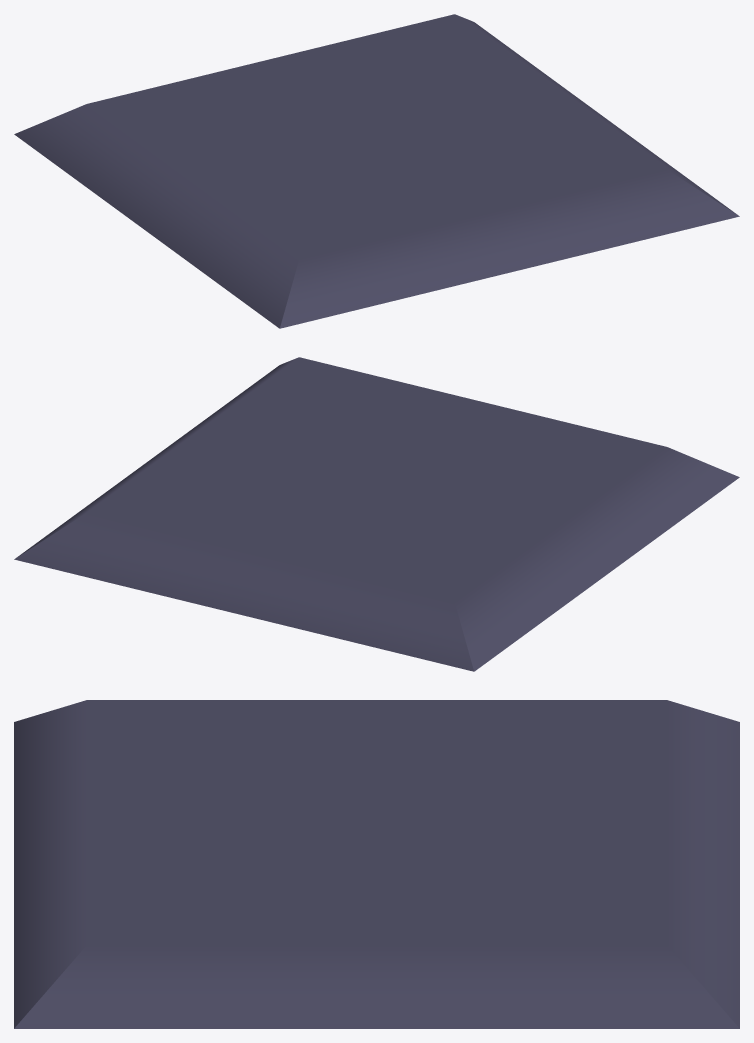
File: Stage.fbx
3 views of the same model, one above another, from view 1: azimuth 30°, elevation 25°; view 2: azimuth 150°, elevation 25°; view 3: azimuth 270°, elevation 25° (orthographic). The views are drawn at different scales.
Parts seen in each view (by area): view 1: pPlane1; view 2: pPlane1; view 3: pPlane1.
Part boxes in pixels (box(x1,y1,x2,y2)): pPlane1: box(14, 14, 739, 328); pPlane1: box(14, 357, 739, 671); pPlane1: box(14, 700, 739, 1028).
Size of the model in its own units: 1 by 0.08 by 1.
